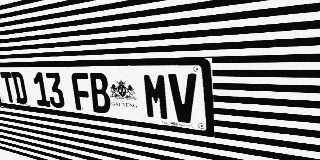1: (32, 72, 51, 107)
3: (45, 72, 65, 109)
B: (88, 73, 112, 114)
D: (11, 72, 28, 104)
F: (71, 73, 93, 112)
M: (142, 73, 170, 121)
T: (0, 72, 17, 103)
V: (168, 73, 199, 124)
